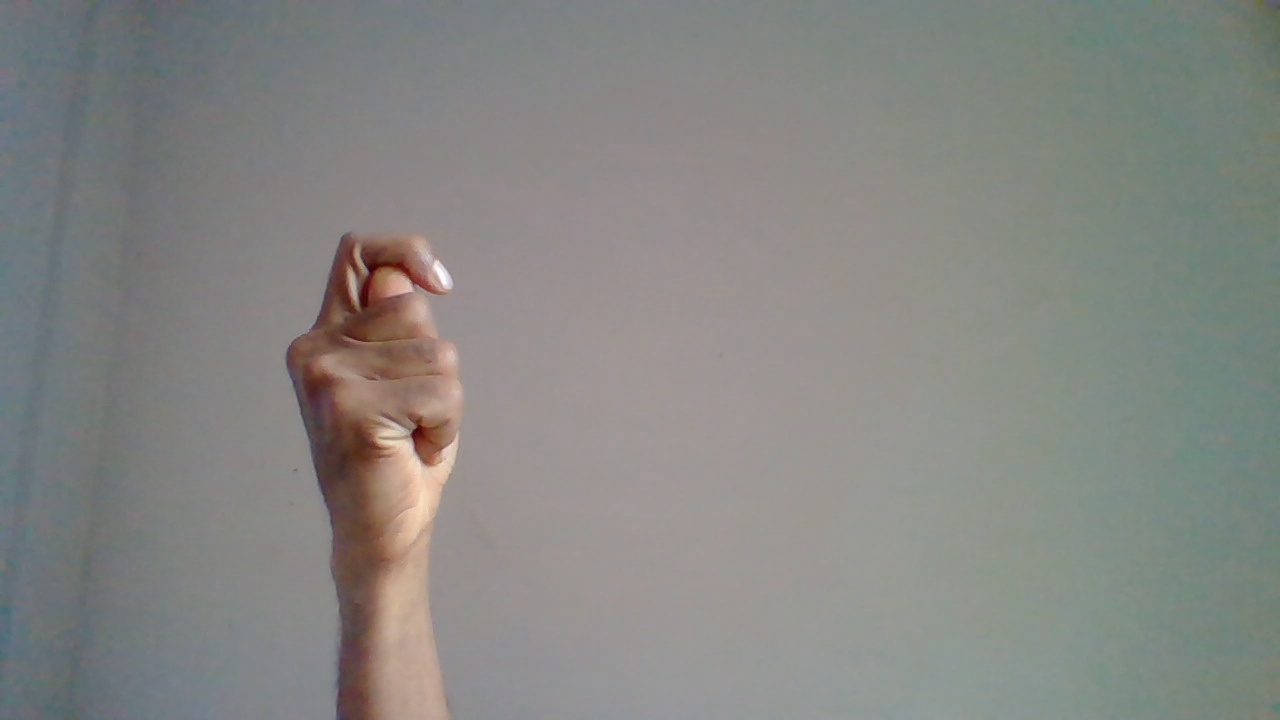che: (280, 225, 464, 682)
